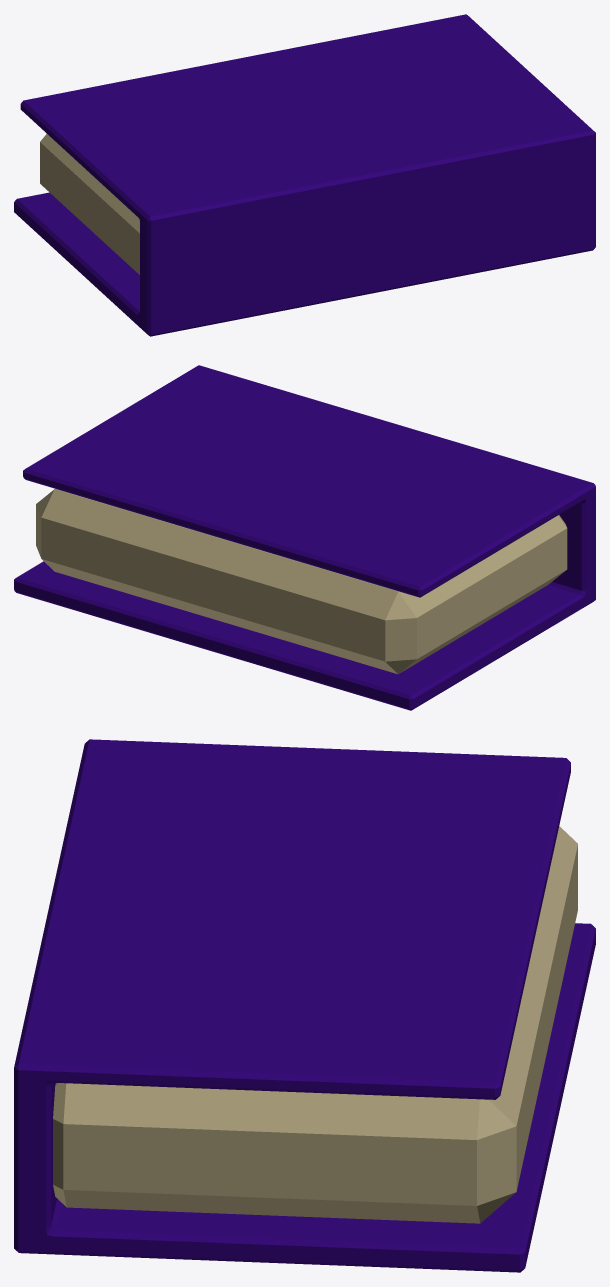
Rendered from Book_Blue.fbx.
3 renders of one model, top to bottom at view 1: azimuth 30°, elevation 25°; view 2: azimuth 150°, elevation 25°; view 3: azimuth 270°, elevation 25°, orthographic. The views are drawn at different scales.
Visible parts, largest first — view 1: polySurface3; view 2: polySurface3; view 3: polySurface3.
Part boxes in pixels (<box>): polySurface3: <box>14,14,595,336</box>; polySurface3: <box>14,365,595,710</box>; polySurface3: <box>14,739,595,1272</box>.
Bounding box in the file's own units: 2.75 × 0.6972 × 1.94.
